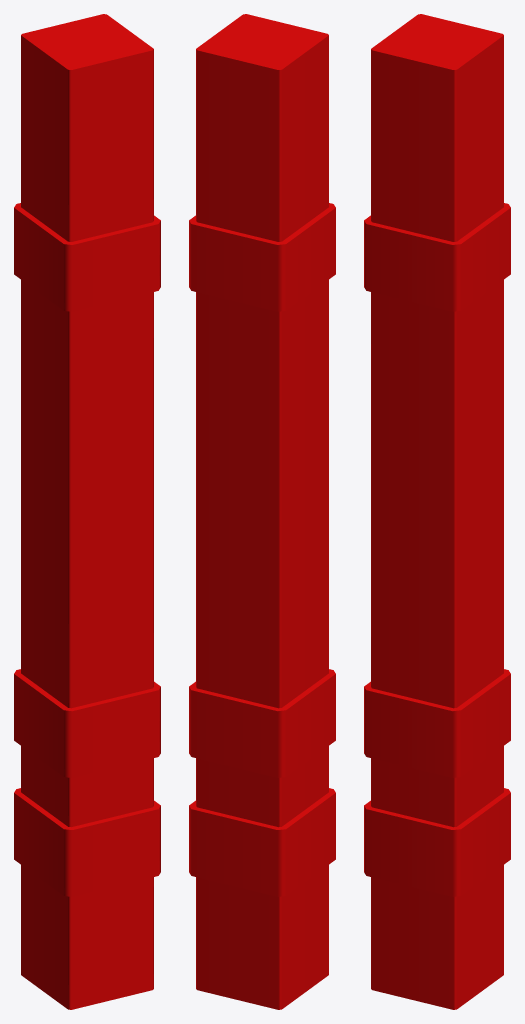
Rendered from Poteau_seul.fbx.
The picture shows the model from 3 angles, left to right: view 1: azimuth 30°, elevation 25°; view 2: azimuth 150°, elevation 25°; view 3: azimuth 330°, elevation 25°; orthographic projection.
Parts seen in each view (by area): view 1: poteau; view 2: poteau; view 3: poteau.
Boxes of the visible parts, x1,y1,x2,y2 form: poteau: [14, 14, 160, 1009]; poteau: [189, 14, 335, 1009]; poteau: [364, 14, 510, 1009].
Size of the model in its own units: 0.3396 by 3.14 by 0.3396.
